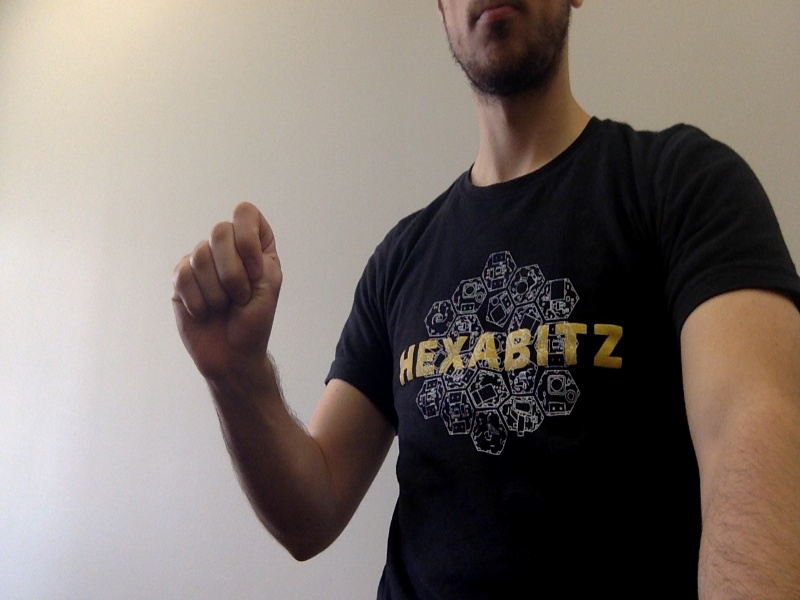0-hand: (172, 200, 280, 374)
